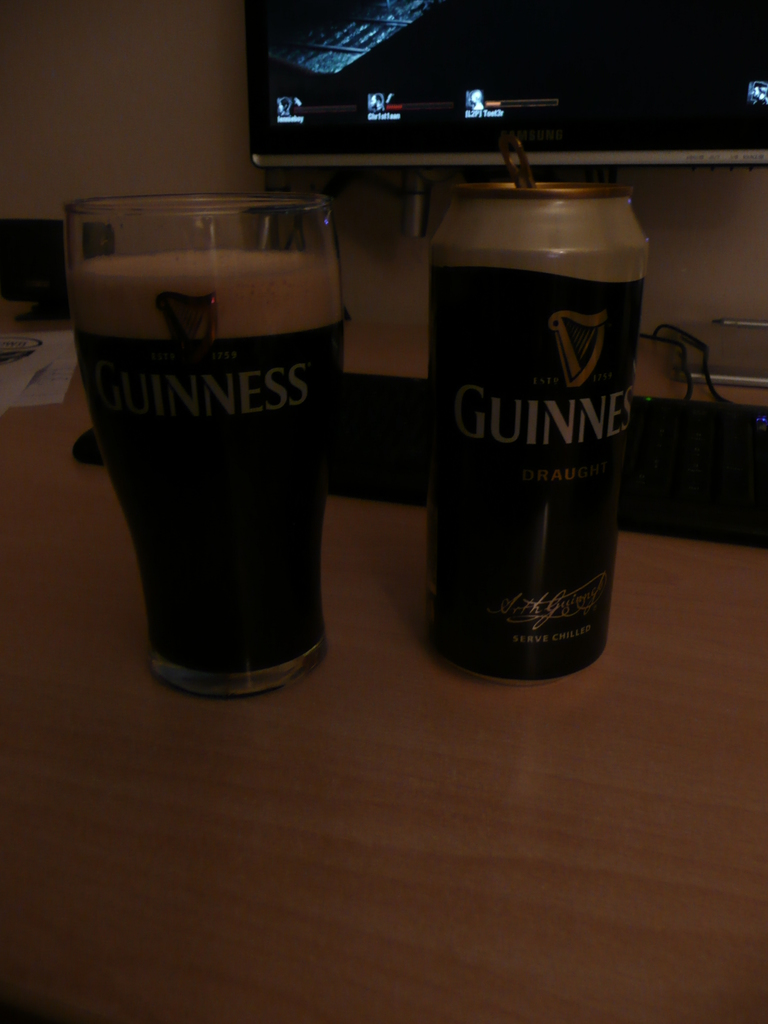Beer: (69, 235, 339, 698), (421, 188, 643, 688)
